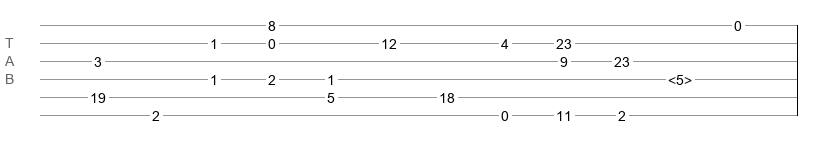0: (268, 36, 276, 46), (501, 108, 509, 118), (734, 18, 742, 28)
1: (210, 36, 218, 46), (210, 72, 218, 82), (327, 72, 335, 82)
11: (556, 108, 572, 118)
12: (381, 36, 397, 46)
18: (439, 90, 455, 100)
19: (90, 90, 106, 100)
2: (152, 108, 160, 118), (268, 72, 276, 82), (618, 108, 626, 118)
23: (556, 36, 572, 46), (614, 54, 630, 64)
3: (94, 54, 102, 64)
4: (501, 36, 509, 46)
5: (327, 90, 335, 100)
8: (268, 18, 276, 28)
9: (560, 54, 568, 64)
harmonic: (668, 72, 692, 82)
